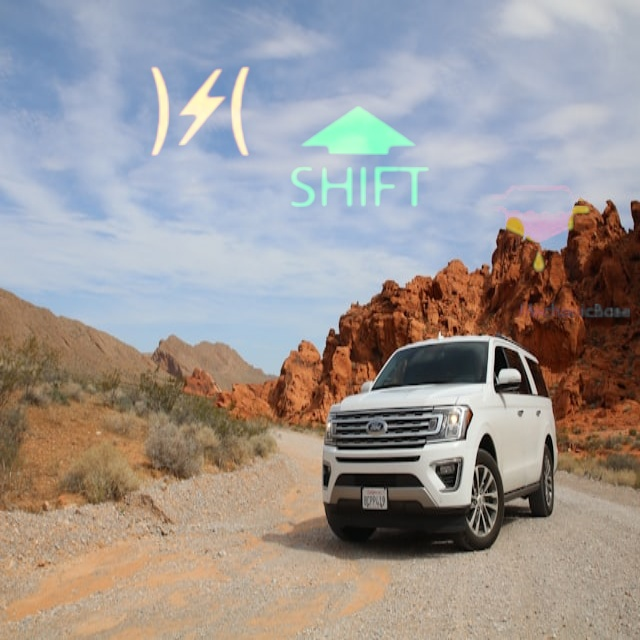symbol: (442, 131, 638, 327), (266, 66, 452, 252), (109, 21, 292, 204)
